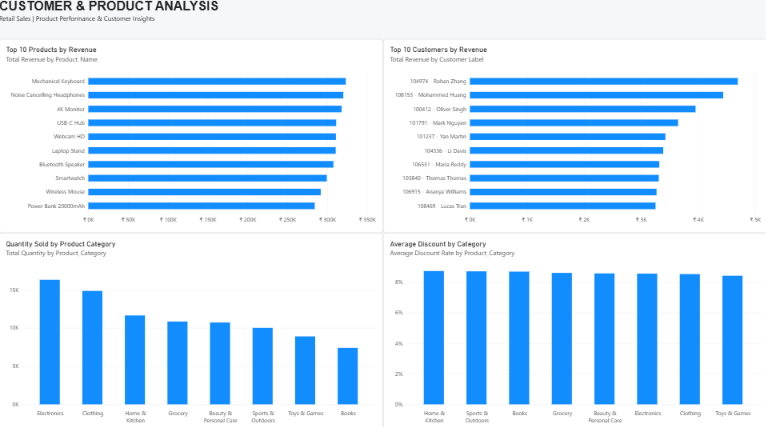

The dashboard page shown, as its layout file describes it:
{"tool":"powerbi","page":{"name":"Customer & Product Analysis","canvas":[1920,1080],"ordinal":2},"visuals":[{"type":"clusteredBarChart","title":"Top 10 Products by Revenue","fields":{"Category":["retail_sales_clean.Product_Name"],"Y":["retail_sales_clean.Total Revenue"]},"box":[0,100.9,959.2,483.7],"z":0},{"type":"clusteredBarChart","title":"Top 10 Customers by Revenue","fields":{"Category":["retail_sales_clean.Customer Label"],"Y":["retail_sales_clean.Total Revenue"]},"box":[959.2,100.9,961.2,483.7],"z":1000},{"type":"clusteredColumnChart","title":"Quantity Sold by Product Category","fields":{"Category":["retail_sales_clean.Product_Category"],"Y":["retail_sales_clean.Total Quantity"]},"box":[0,584.6,959.2,496.1],"z":2000},{"type":"clusteredColumnChart","title":"Average Discount by Category","fields":{"Category":["retail_sales_clean.Product_Category"],"Y":["retail_sales_clean.Average Discount Rate"]},"box":[959.2,584.6,961.2,496.1],"z":3000},{"type":"textbox","box":[100,100,300,300],"z":3001},{"type":"textbox","box":[0,0,594.9,399.3],"z":3002}]}

Visuals, with their boxes in screenshot pixels (x1, y1, x2, y2), scaled from the page's 1920x1080 canvas onto the 766x427 screenshot:
"Top 10 Products by Revenue" clusteredBarChart: [0,40,383,231]
"Top 10 Customers by Revenue" clusteredBarChart: [383,40,765,231]
"Quantity Sold by Product Category" clusteredColumnChart: [0,231,383,426]
"Average Discount by Category" clusteredColumnChart: [383,231,765,426]
textbox: [40,40,160,158]
textbox: [0,0,237,158]
